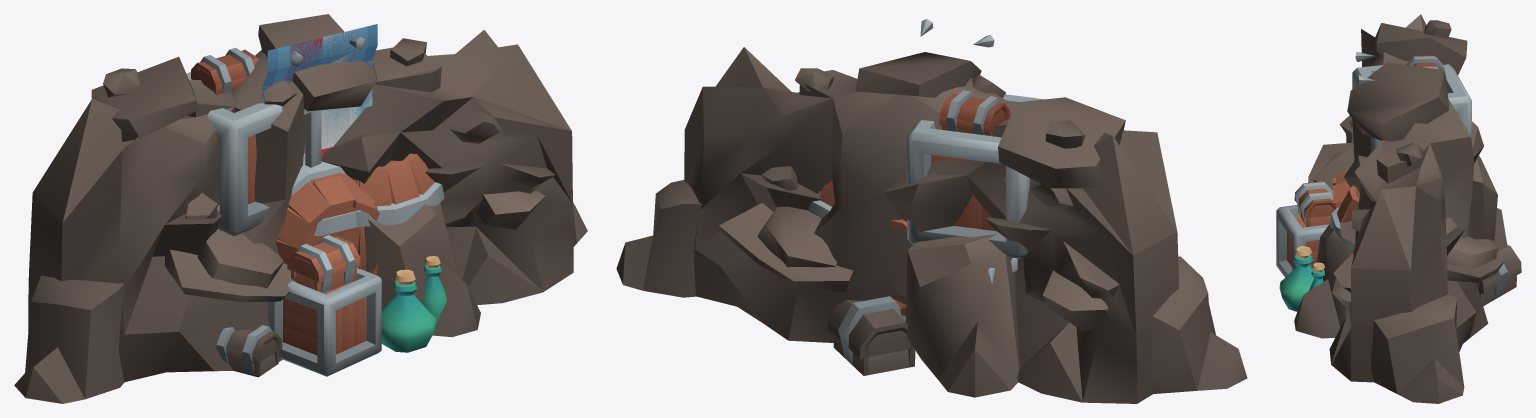
The model's file is props_dungeon.glb.
3 views of the same model, side by side, from view 1: azimuth 30°, elevation 25°; view 2: azimuth 150°, elevation 25°; view 3: azimuth 270°, elevation 25° (orthographic). The views are drawn at different scales.
Visible parts, largest first — view 1: rubble_large, box_stacked, keg, banner_blue, banner_patternA_red, barrel_large; view 2: rubble_large, box_stacked; view 3: rubble_large, box_stacked, keg, banner_blue.
Part boxes in pixels (bbox=[...]): rubble_large: bbox=[14, 14, 587, 403]; box_stacked: bbox=[186, 48, 446, 377]; keg: bbox=[276, 161, 379, 275]; banner_blue: bbox=[262, 24, 377, 164]; banner_patternA_red: bbox=[262, 30, 372, 165]; barrel_large: bbox=[310, 172, 356, 242]; rubble_large: bbox=[616, 47, 1247, 403]; box_stacked: bbox=[808, 90, 1043, 375]; rubble_large: bbox=[1294, 14, 1507, 403]; box_stacked: bbox=[1276, 55, 1521, 311]; keg: bbox=[1333, 169, 1350, 208]; banner_blue: bbox=[1355, 52, 1375, 84].
Bounding box in the file's own units: 8.13 × 4.12 × 3.63.
Materials: 1 (1 with a texture image).
